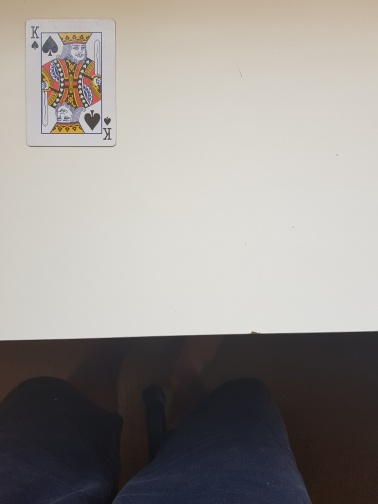king: (24, 18, 117, 148)
